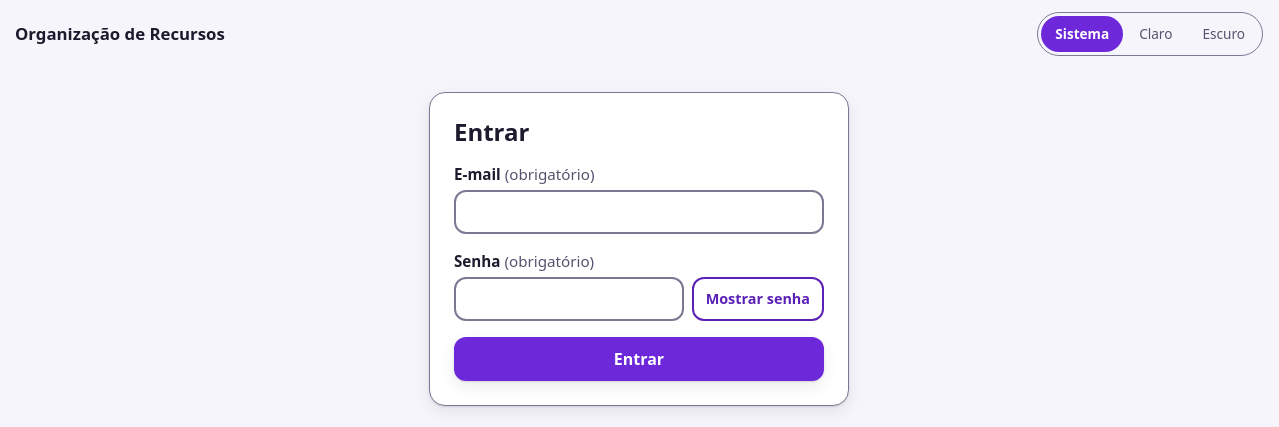
Test: PaginaDeEntrada: estrutura › a senha começa escondida e Mostrar senha alterna, sem perder o que foi digitado
Type "segredo-de-teste" into the password field labelled "Senha (obrigatório)".
click(569, 299); type("segredo-de-teste")  # box x1=454 y1=277 x2=684 y2=321
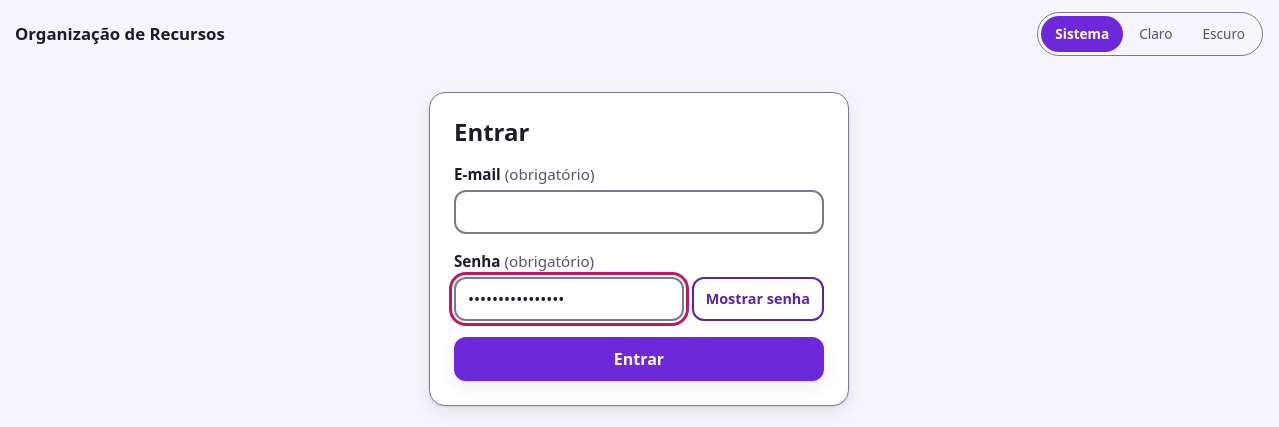
Click the button "Mostrar senha".
click(758, 299)  # box x1=692 y1=277 x2=824 y2=321
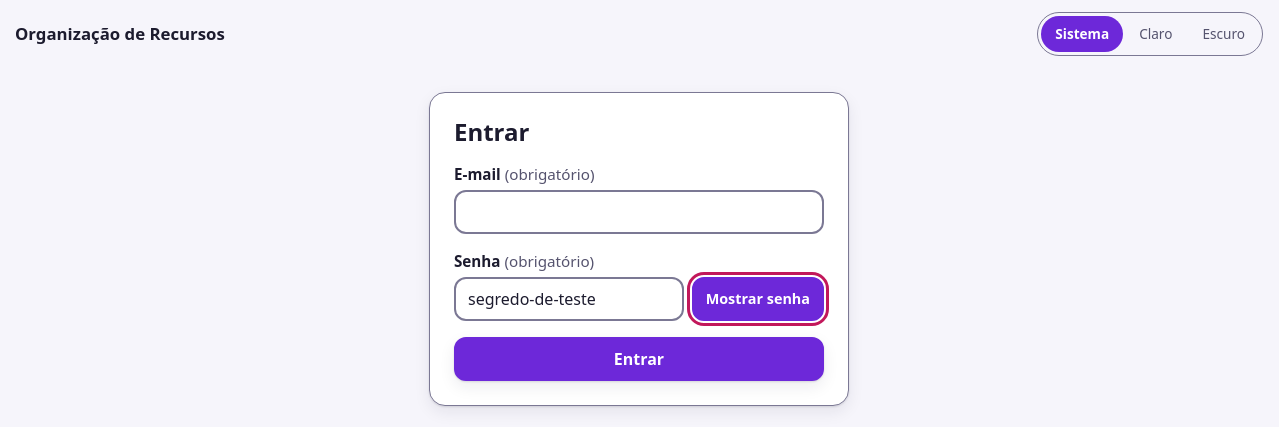
Now the field labelled "Senha (obrigatório)" shows its text, box x1=454 y1=277 x2=684 y2=321
Click the button "Mostrar senha".
click(758, 299)  # box x1=692 y1=277 x2=824 y2=321
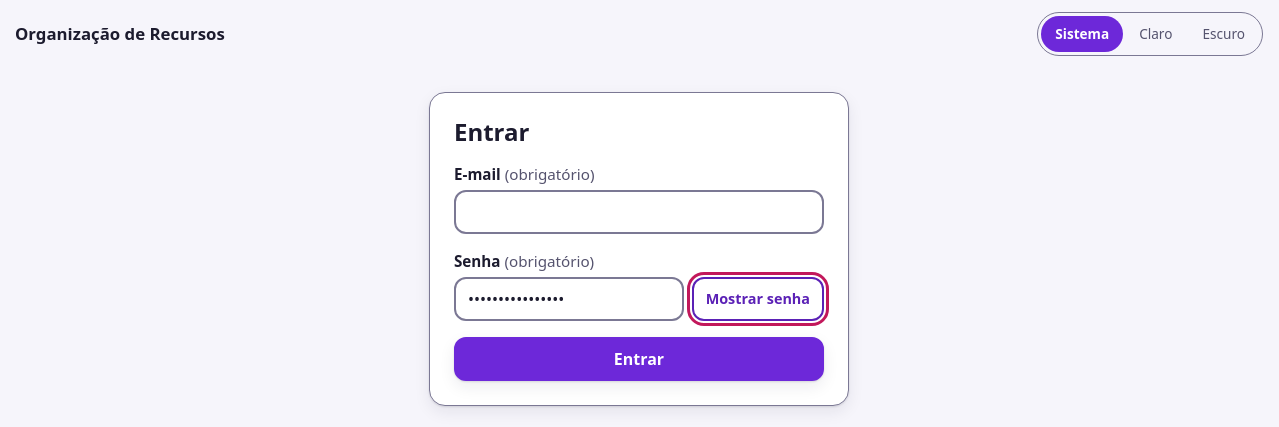
Now the password field labelled "Senha (obrigatório)" hides its text, box x1=454 y1=277 x2=684 y2=321
